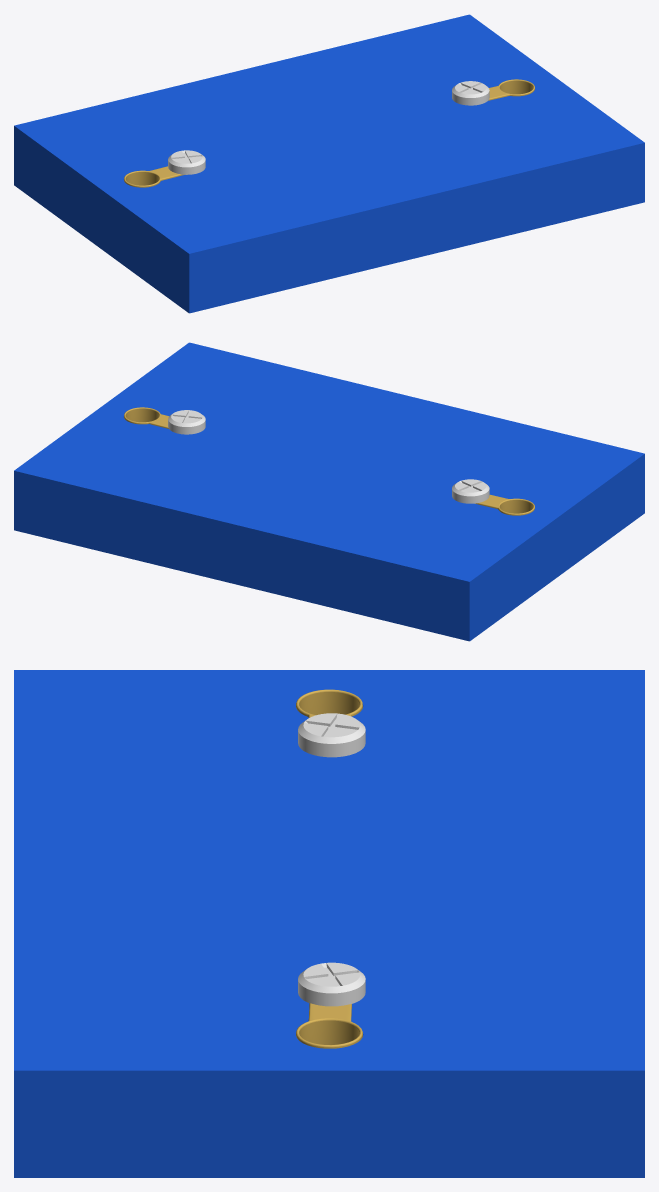
Rendered from platform.fbx.
3 renders of one model, top to bottom at view 1: azimuth 30°, elevation 25°; view 2: azimuth 150°, elevation 25°; view 3: azimuth 270°, elevation 25°, orthographic. The views are drawn at different scales.
Visible parts, largest first — view 1: BezierCurve.027, BezierCurve.028; view 2: BezierCurve.027, BezierCurve.028; view 3: BezierCurve.027, BezierCurve.028.
Boxes of the visible parts, x1=… form: BezierCurve.027: x1=14, y1=14, x2=644, y2=313; BezierCurve.028: x1=124, y1=79, x2=534, y2=187; BezierCurve.027: x1=14, y1=342, x2=644, y2=641; BezierCurve.028: x1=124, y1=407, x2=534, y2=515; BezierCurve.027: x1=14, y1=670, x2=644, y2=1177; BezierCurve.028: x1=296, y1=689, x2=365, y2=1048.
Size of the model in its own units: 6 by 0.8916 by 3.99.
